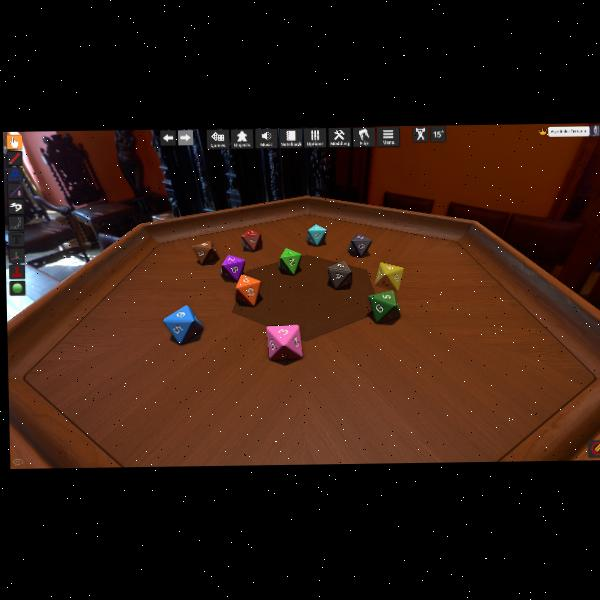d8: (163, 304, 204, 345), (266, 324, 303, 360), (369, 290, 399, 321), (235, 273, 262, 306), (375, 261, 404, 290), (326, 260, 350, 288), (193, 238, 218, 264), (222, 254, 246, 281), (279, 247, 301, 274), (348, 233, 371, 257), (241, 228, 262, 251), (307, 224, 326, 245)
